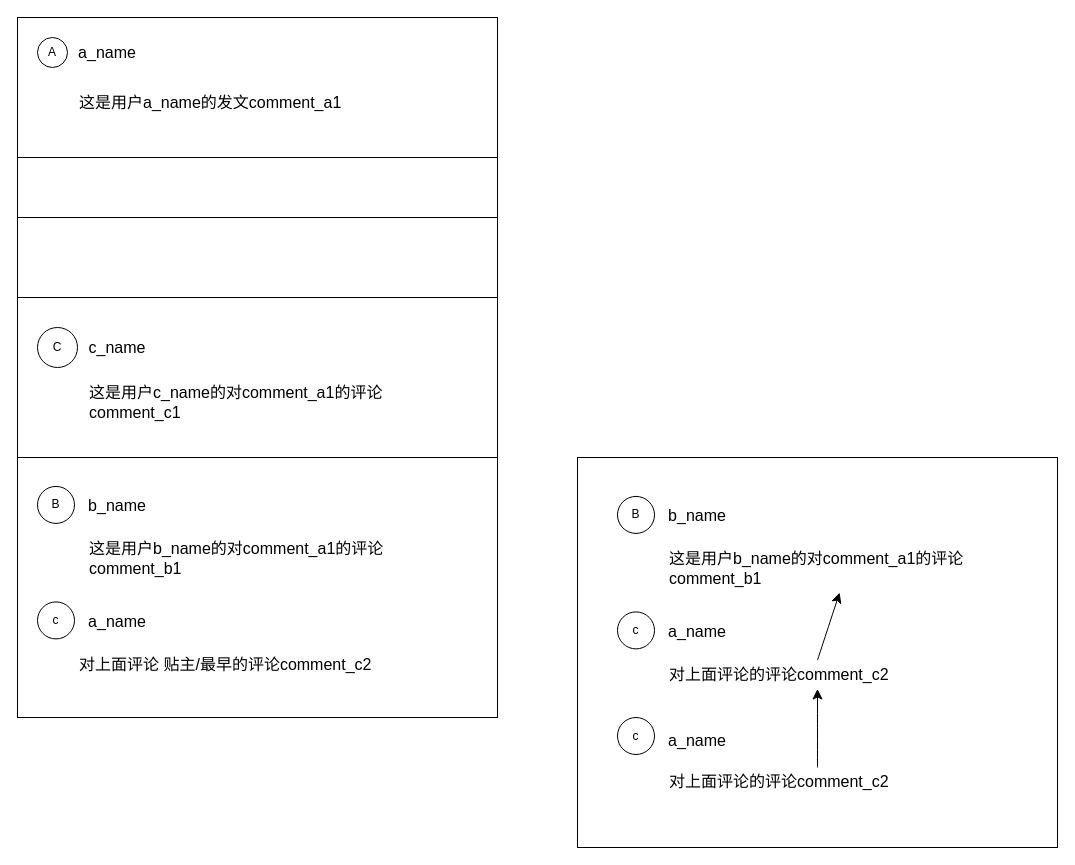
Image size: 1075x865. Some labels were removed from this diagram. Each missing label, with the centre of its shape:
点赞数,评论数,转发的操作的合集: point 257,187
评论的输入框: point 257,257
